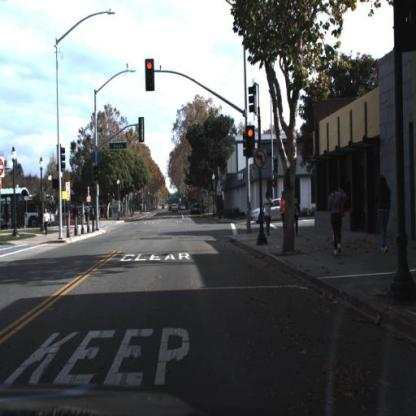car: (251, 200, 287, 225)
pedestrian: (326, 181, 347, 254), (376, 175, 394, 256), (330, 183, 344, 256), (292, 193, 304, 236), (262, 189, 272, 236), (41, 204, 53, 235), (41, 204, 50, 239), (73, 200, 82, 234), (280, 190, 288, 226)
trafficLight-Red: (245, 124, 257, 160), (145, 58, 155, 94), (248, 128, 256, 154)
truck: (2, 196, 53, 229)
